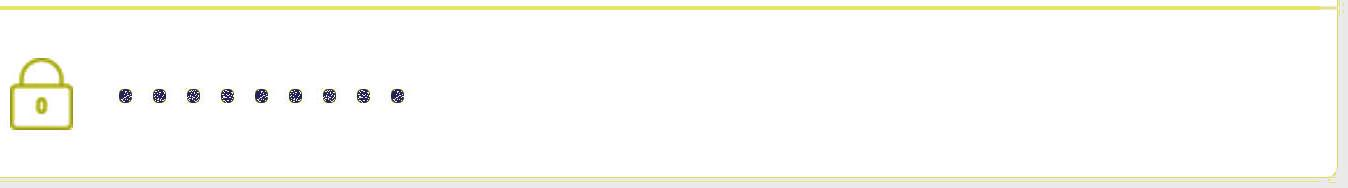EditText: (1, 1, 1347, 187)
